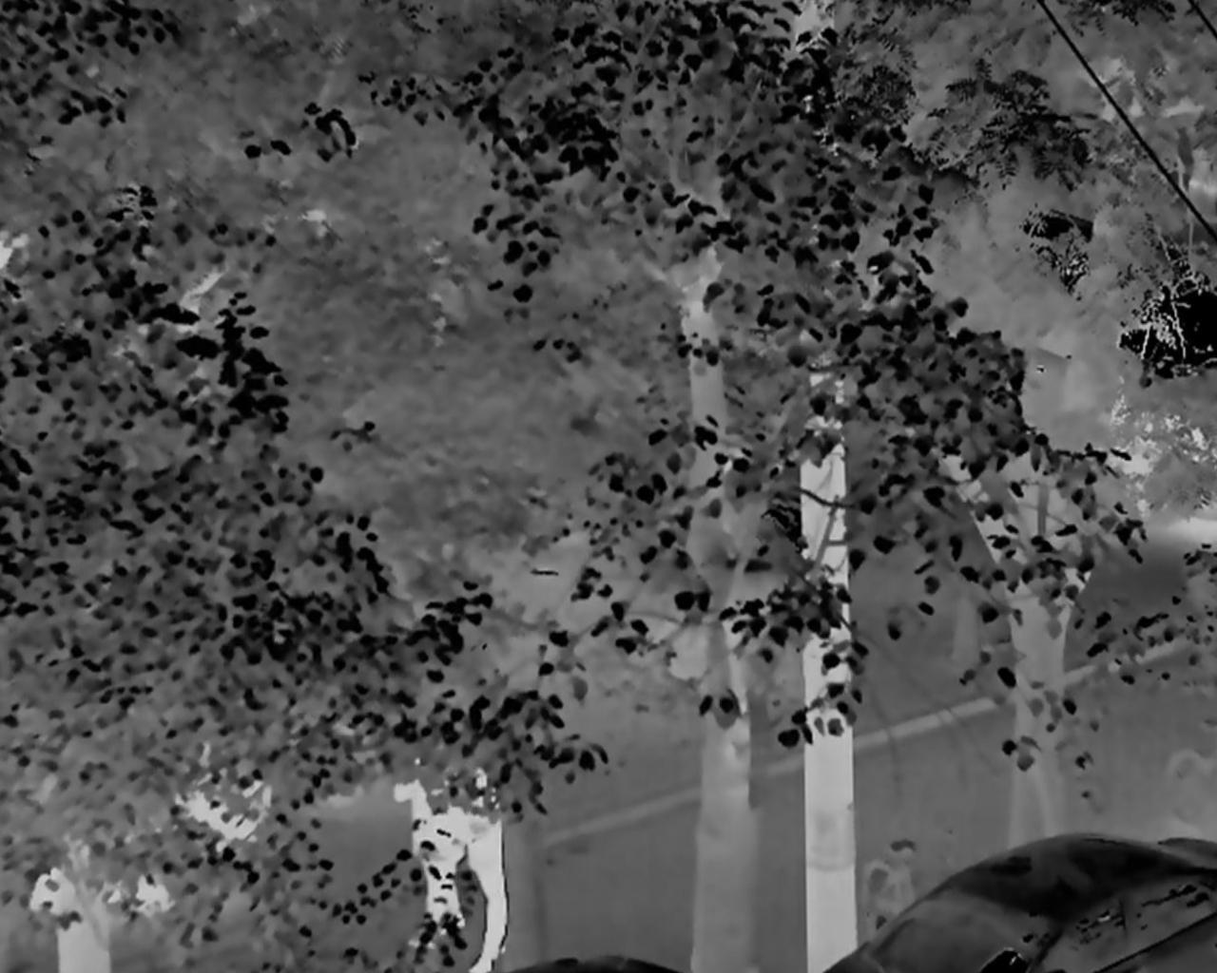person: (384, 747, 466, 934), (442, 765, 516, 965)
